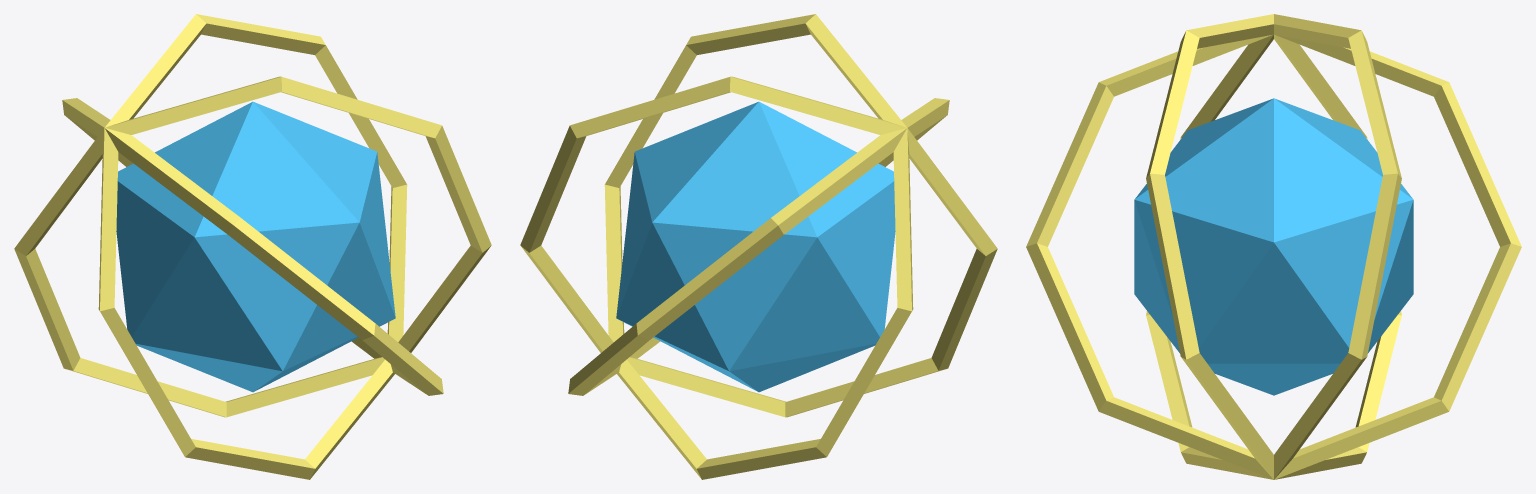
The model's file is MagicOrb.fbx.
The picture shows the model from 3 angles, left to right: view 1: azimuth 30°, elevation 25°; view 2: azimuth 150°, elevation 25°; view 3: azimuth 270°, elevation 25°; orthographic projection. The views are drawn at different scales.
Parts seen in each view (by area): view 1: MagicOrb; view 2: MagicOrb; view 3: MagicOrb.
Boxes of the visible parts, x1,y1,x2,y2 form: MagicOrb: [14, 14, 491, 479]; MagicOrb: [520, 14, 997, 479]; MagicOrb: [1026, 14, 1521, 479].
Bounding box in the file's own units: 2.54 × 2.54 × 2.72.
1 material, 1 textured.
